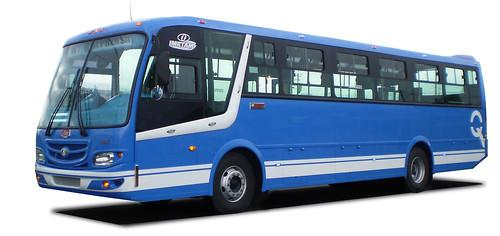bus: (31, 18, 484, 211)
